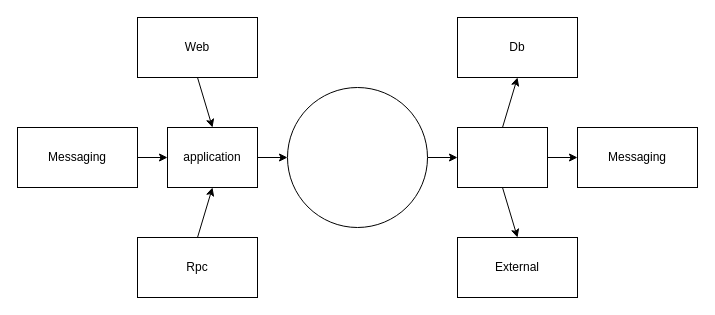
Some shapes in this 715 by 315 pixel diagram are drawn without their labels. Here are the shapes that lost their labels. From the top down, the box of each, then its label:
(286, 86, 428, 228): Domain
(456, 126, 548, 188): infrastructure
